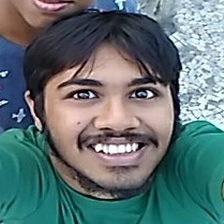no_mask: (39, 58, 175, 184)
